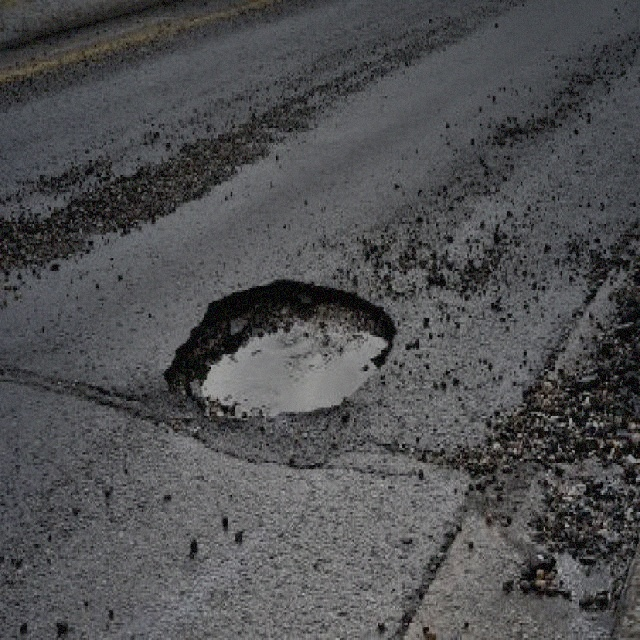pothole: (160, 273, 401, 418)
